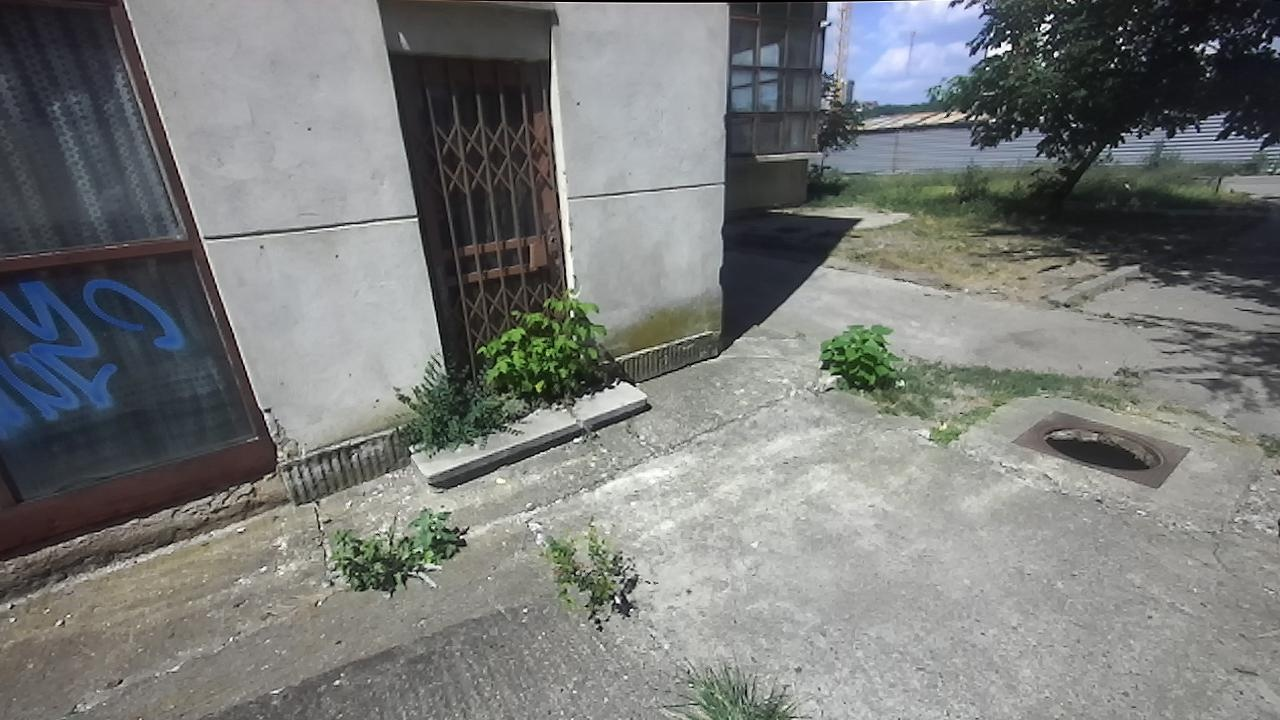drain: (1023, 420, 1168, 473)
